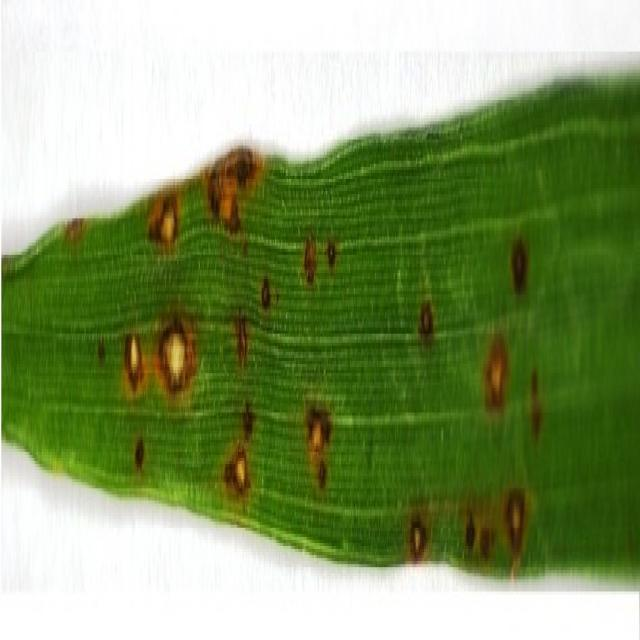Leafsmut: (153, 311, 199, 400), (145, 189, 183, 254), (462, 500, 498, 566), (217, 145, 261, 195), (482, 335, 509, 415), (503, 489, 528, 572), (222, 443, 253, 508), (304, 402, 334, 464), (122, 332, 146, 397), (406, 507, 431, 564), (230, 311, 252, 371), (510, 235, 529, 295), (529, 368, 542, 442), (416, 300, 436, 348), (302, 233, 318, 286), (240, 400, 257, 444), (62, 217, 86, 248), (324, 236, 340, 273), (133, 436, 146, 478), (464, 510, 477, 552), (260, 275, 274, 311), (625, 527, 637, 562), (96, 338, 106, 363), (242, 239, 250, 259)
